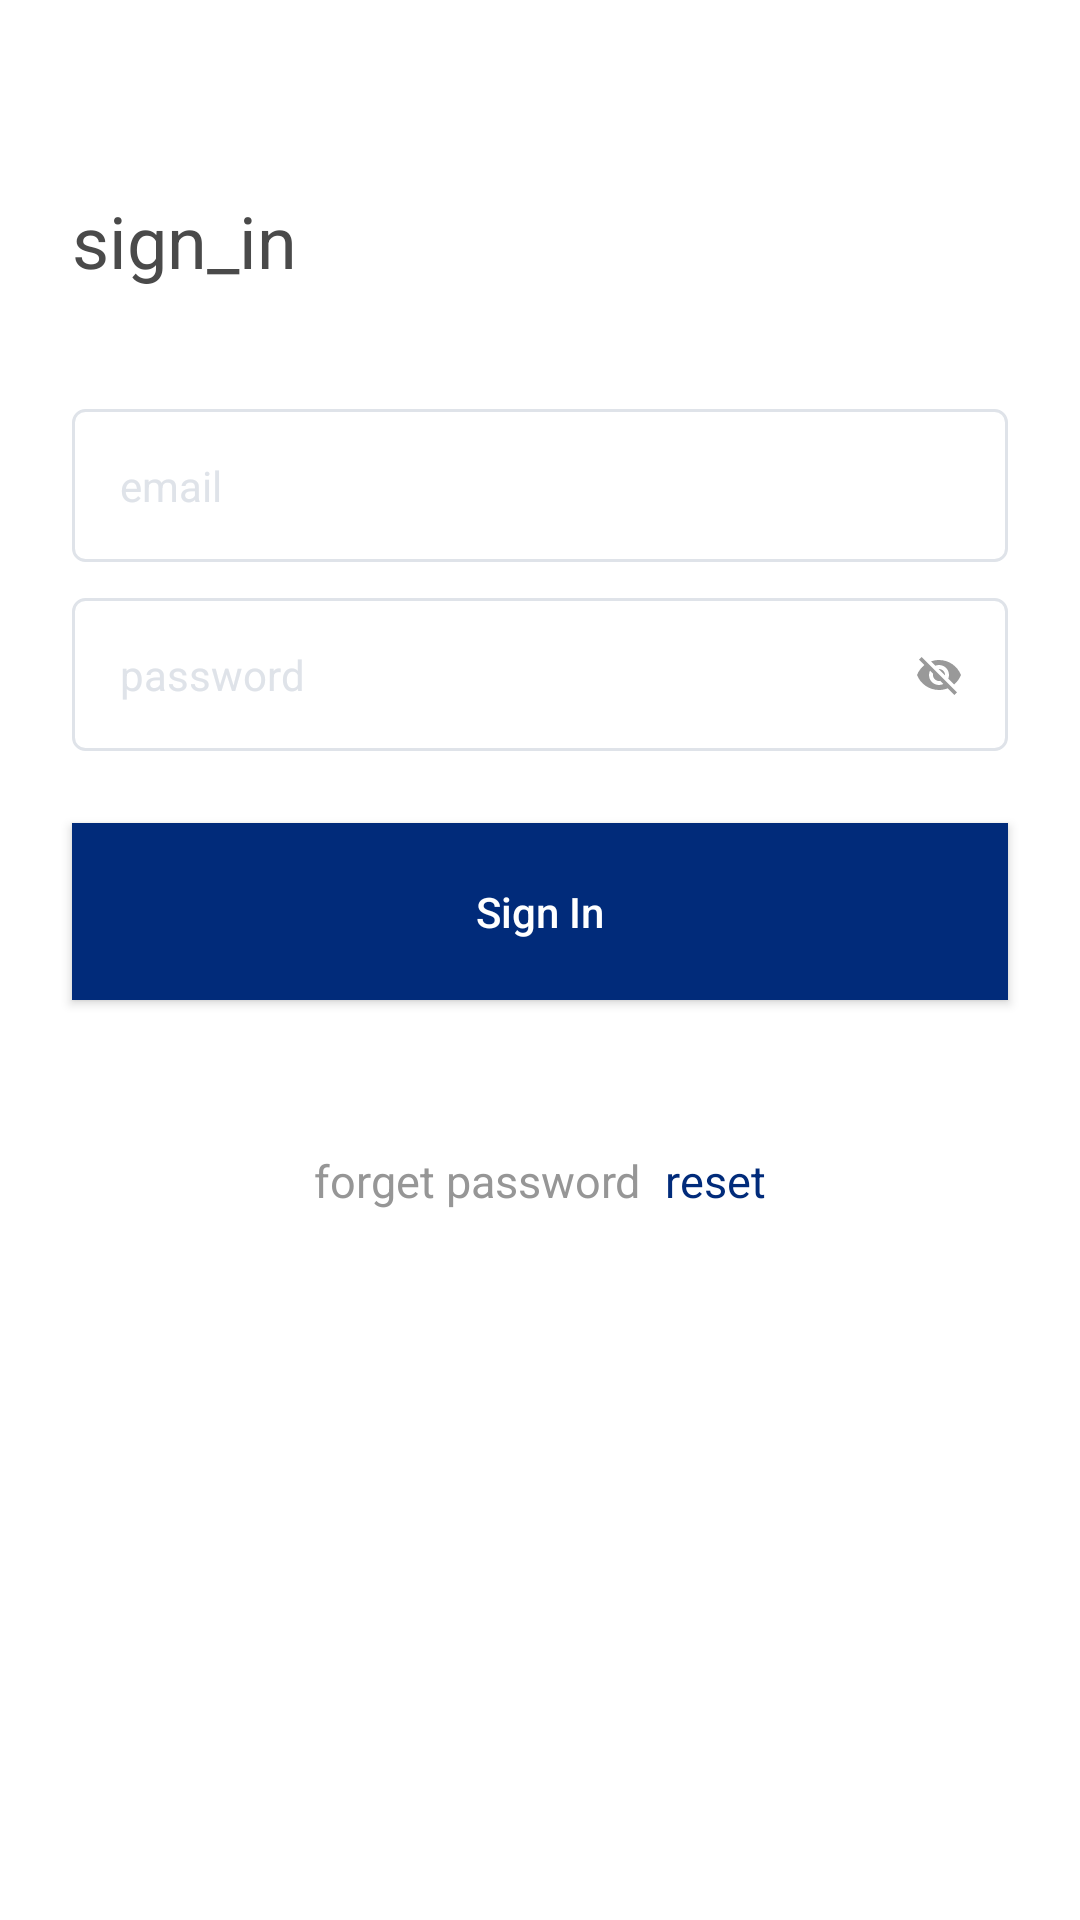

Where icons sit on this 1080px×1920px app screen, as (x1, y1, x2, y2):
visibility off: (917, 657, 961, 695)
